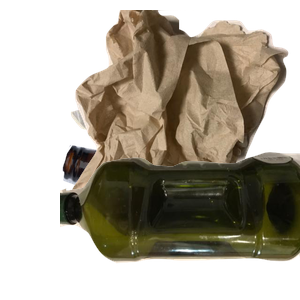glass: (60, 142, 300, 300)
paper: (68, 66, 215, 197)
plastic: (60, 149, 300, 300)
trash: (70, 10, 300, 190)
